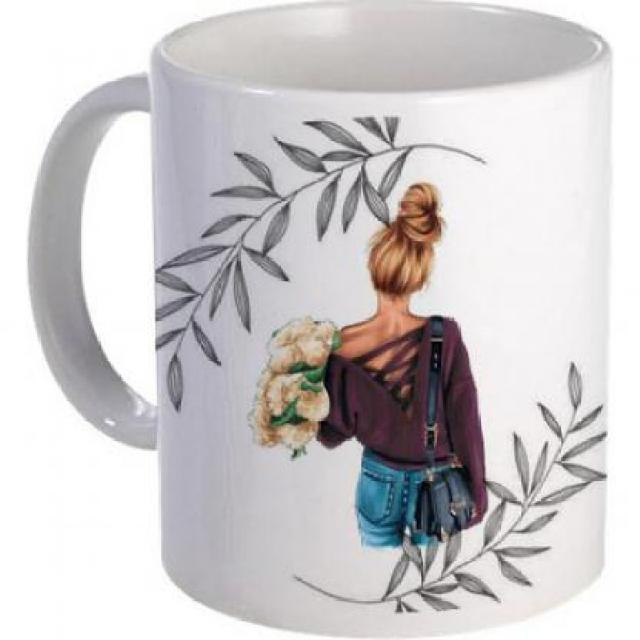taza: (25, 0, 622, 632)
